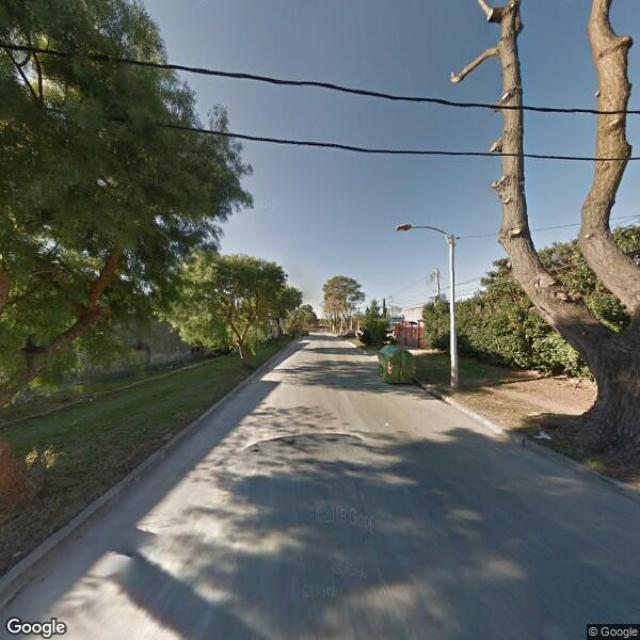garbage container: (375, 339, 422, 397)
